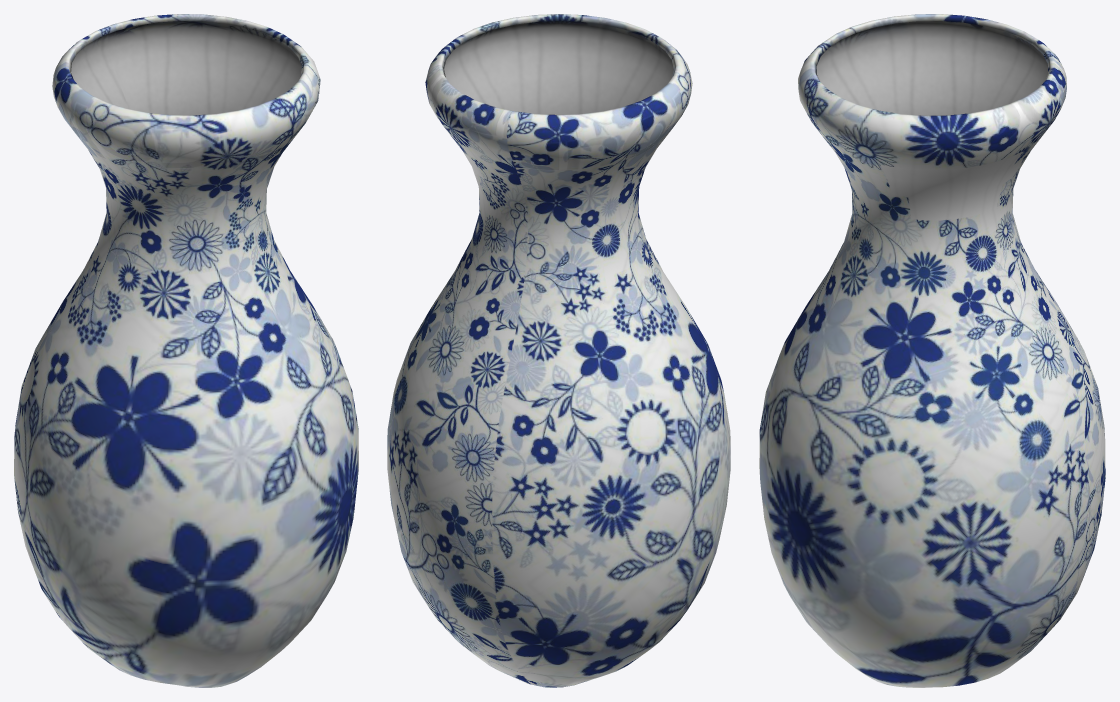
File: Vase.dae
3 views of the same model, side by side, from view 1: azimuth 30°, elevation 25°; view 2: azimuth 150°, elevation 25°; view 3: azimuth 270°, elevation 25° (orthographic).
Parts seen in each view (by area): view 1: Plane; view 2: Plane; view 3: Plane.
Boxes of the visible parts, x1=… form: Plane: x1=14, y1=14, x2=358, y2=687; Plane: x1=387, y1=14, x2=730, y2=687; Plane: x1=759, y1=14, x2=1105, y2=687.
Size of the model in its own units: 0.1268 by 0.1268 by 0.245.
1 material, 1 textured.
